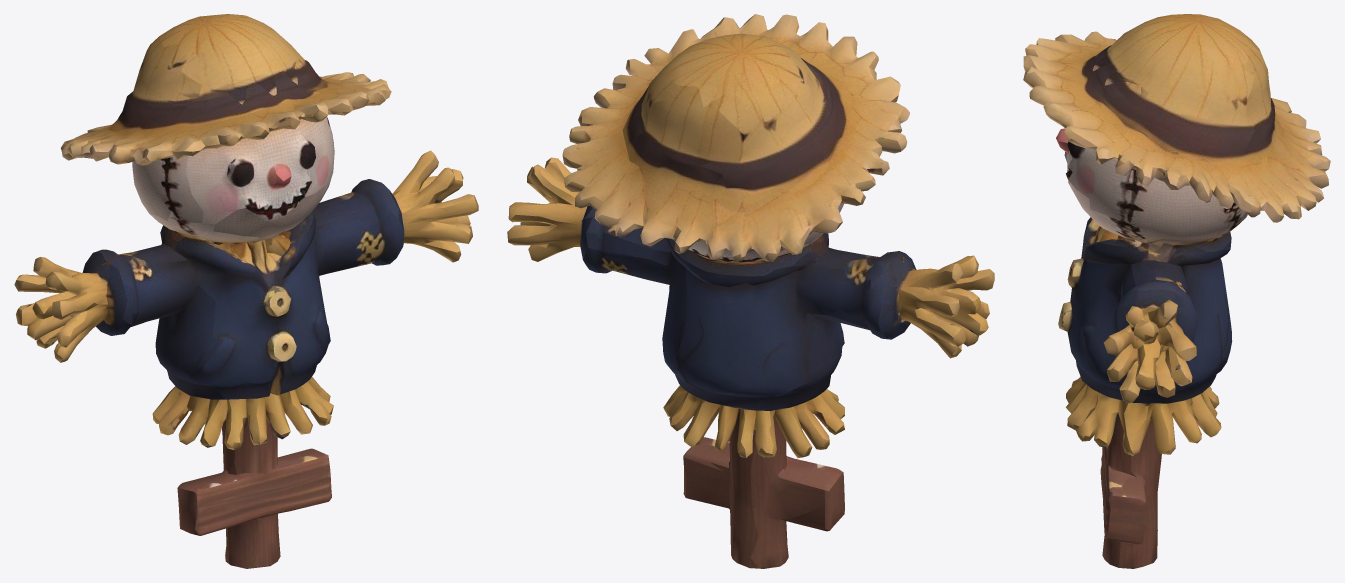
The model's file is scarecrow.glb.
3 renders of one model, left to right at view 1: azimuth 30°, elevation 25°; view 2: azimuth 150°, elevation 25°; view 3: azimuth 270°, elevation 25°, orthographic. The views are drawn at different scales.
Visible parts, largest first — view 1: scarecrow; view 2: scarecrow; view 3: scarecrow.
Part boxes in pixels (left/top/right/bottom): scarecrow: left=14, top=14, right=478, bottom=568; scarecrow: left=507, top=14, right=994, bottom=568; scarecrow: left=1023, top=14, right=1330, bottom=568.
Bounding box in the file's own units: 0.8996 × 1 × 0.5235.
1 material, 1 textured.
